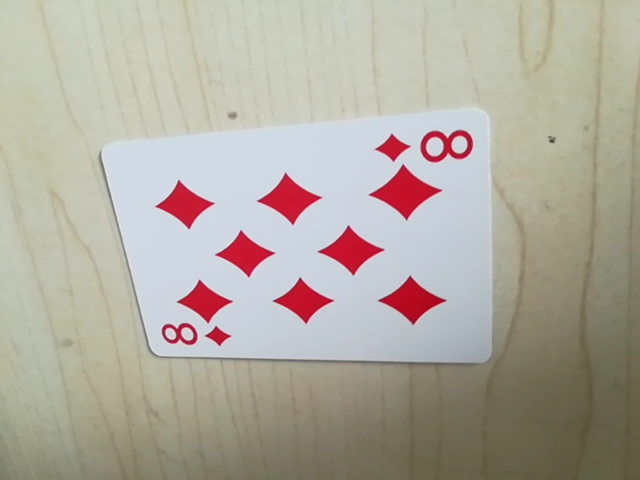fk 8: (374, 120, 477, 170), (156, 320, 234, 356)
